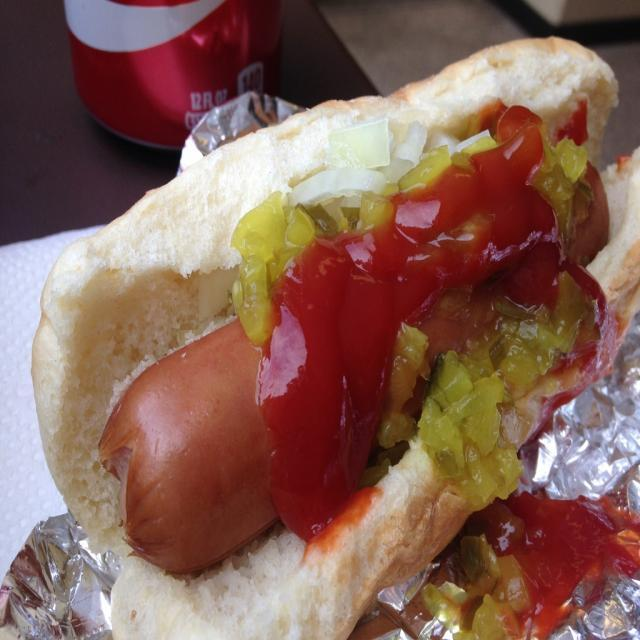Hot dog: (28, 32, 640, 640)
